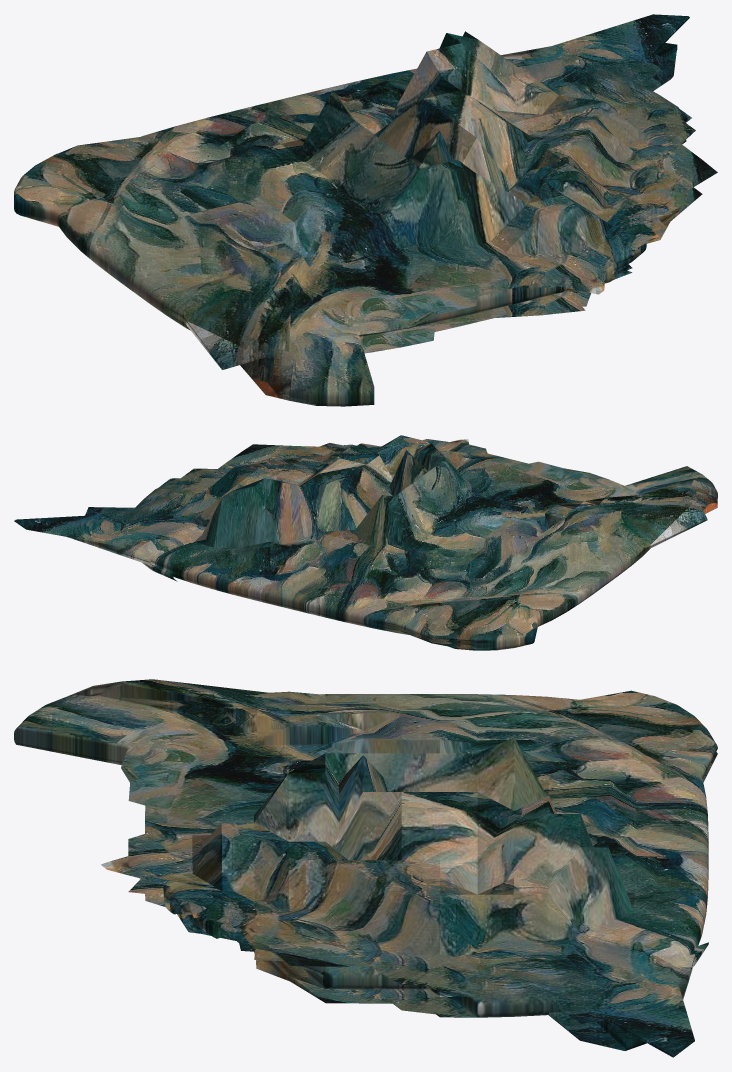
Rendered from drapery.obj.
3 renders of one model, top to bottom at view 1: azimuth 30°, elevation 25°; view 2: azimuth 150°, elevation 25°; view 3: azimuth 270°, elevation 25°, orthographic. The views are drawn at different scales.
Visible parts, largest first — view 1: 000_Box_-_baked; view 2: 000_Box_-_baked; view 3: 000_Box_-_baked.
Part boxes in pixels (x1,y1,x2,y2): 000_Box_-_baked: [14, 14, 717, 406]; 000_Box_-_baked: [14, 435, 717, 650]; 000_Box_-_baked: [14, 679, 717, 1057].
Size of the model in its own units: 261 by 40.49 by 208.
1 material, 1 textured.
